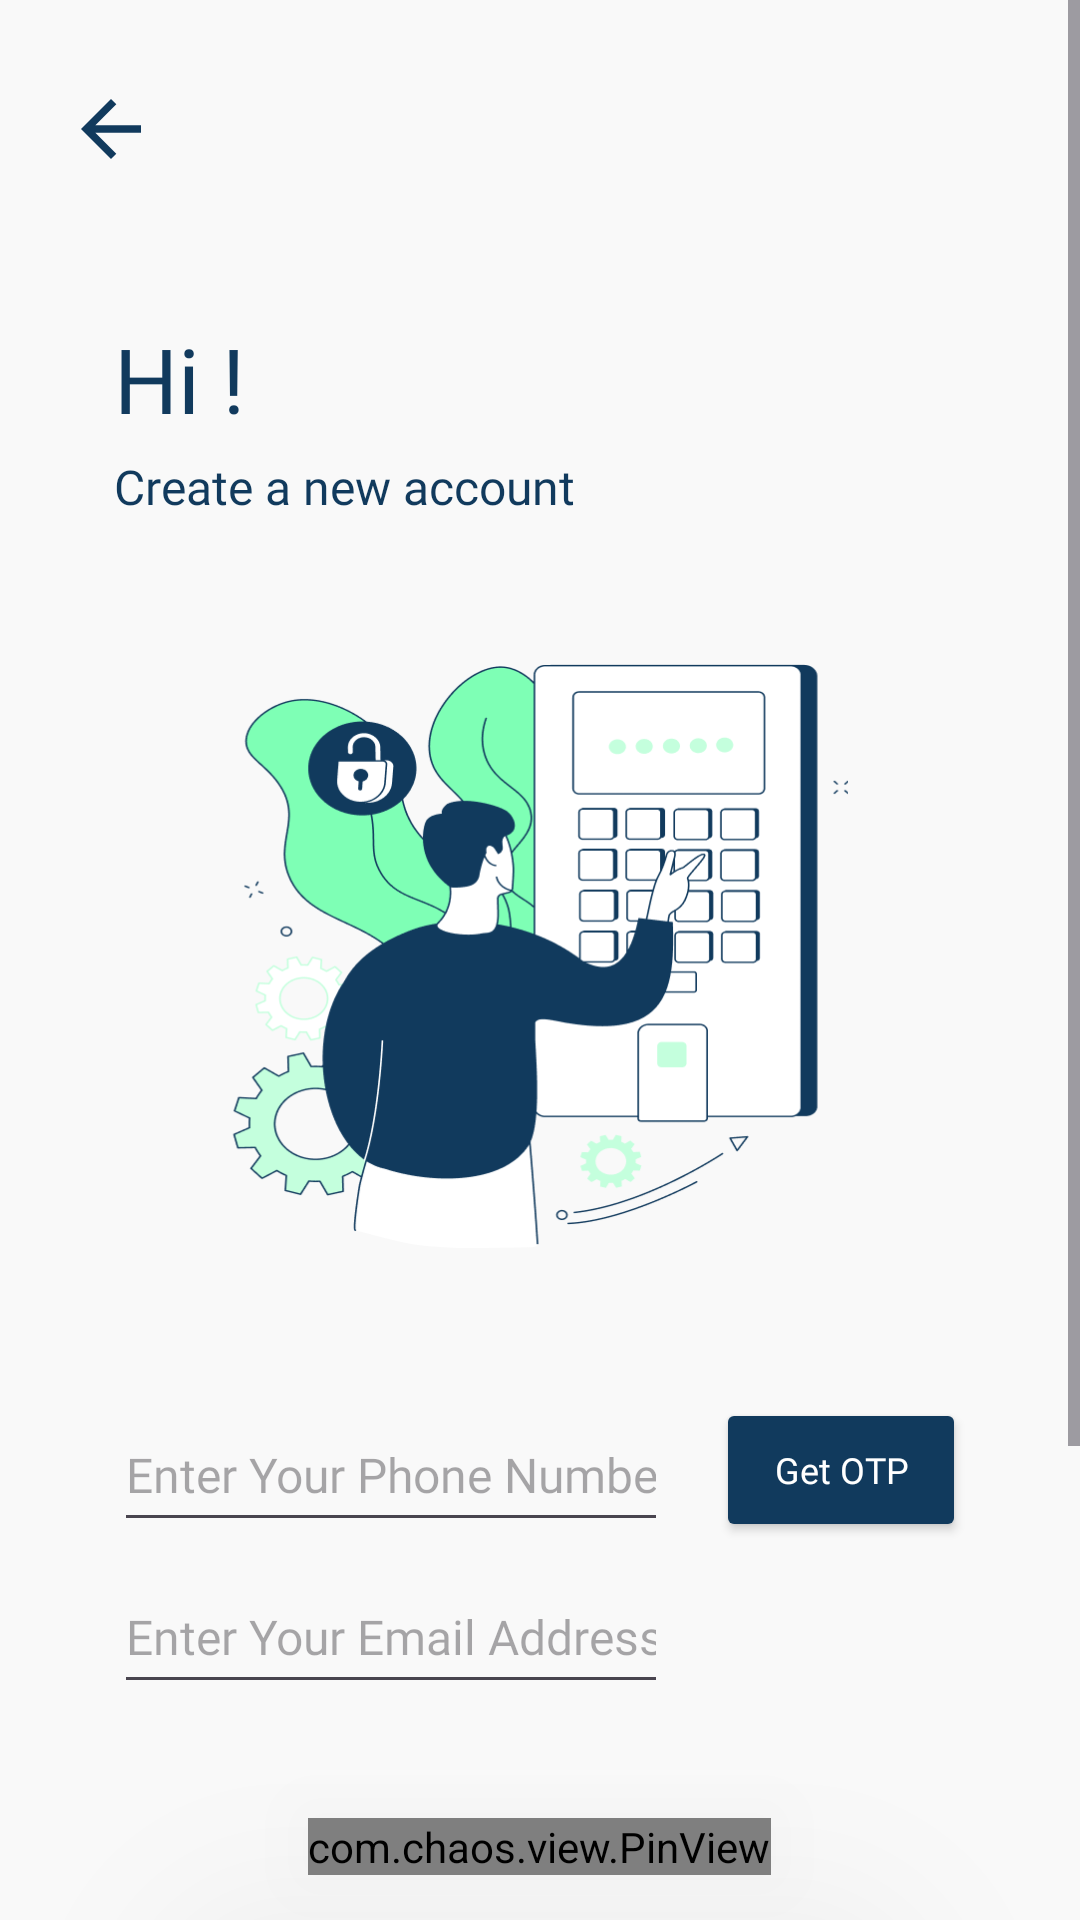

Screen size 1080 × 1920. Icon name, then its center in pixels as (x=x, y=y):
arrow back: (x=111, y=129)
